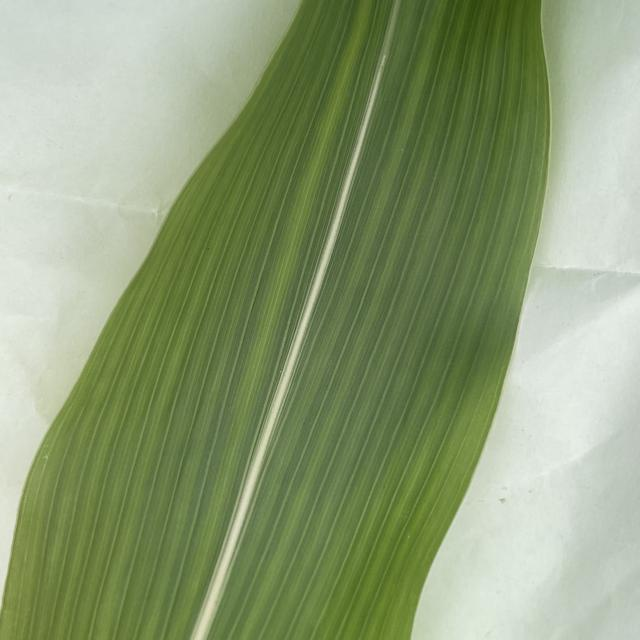millet_healthy: (4, 0, 548, 640)
